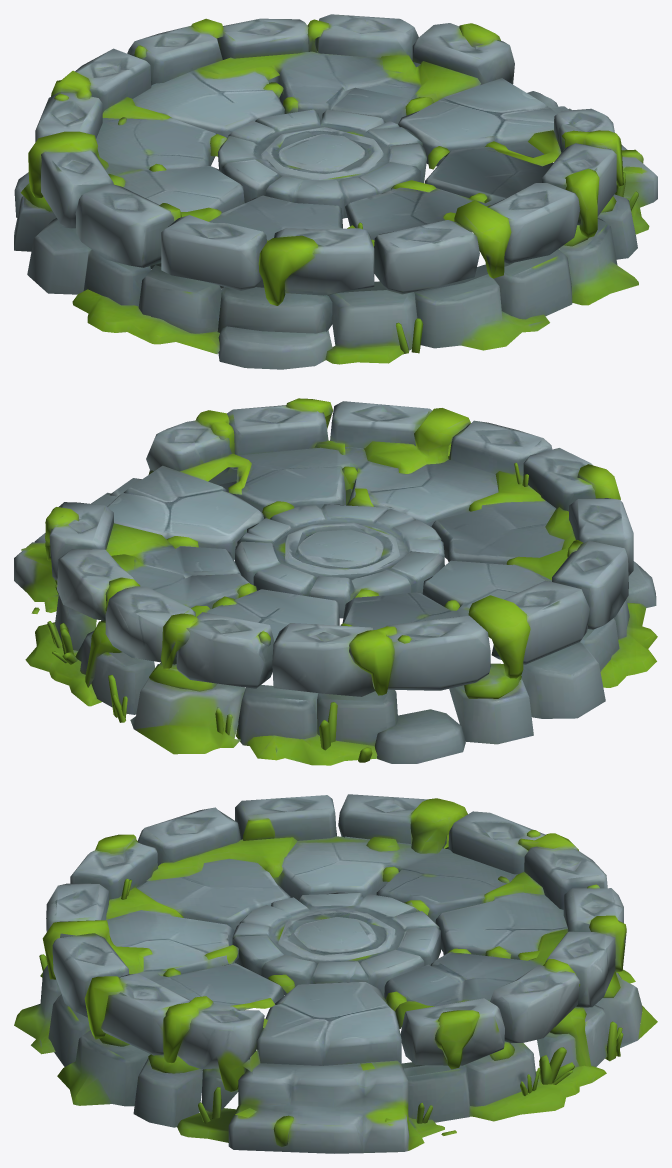
File: altar_dais.glb
3 renders of one model, top to bottom at view 1: azimuth 30°, elevation 25°; view 2: azimuth 150°, elevation 25°; view 3: azimuth 270°, elevation 25°, orthographic. The views are drawn at different scales.
Parts seen in each view (by area): view 1: tripo_node_974b65a8-483d-4def-b3a9-ac92a33b0376; view 2: tripo_node_974b65a8-483d-4def-b3a9-ac92a33b0376; view 3: tripo_node_974b65a8-483d-4def-b3a9-ac92a33b0376.
Part boxes in pixels (x1,y1,x2,y2): tripo_node_974b65a8-483d-4def-b3a9-ac92a33b0376: (14,14,657,369); tripo_node_974b65a8-483d-4def-b3a9-ac92a33b0376: (14,398,657,765); tripo_node_974b65a8-483d-4def-b3a9-ac92a33b0376: (14,794,657,1153).
Bounding box in the file's own units: 0.9966 × 0.1973 × 0.9971.
Materials: 1 (1 with a texture image).
